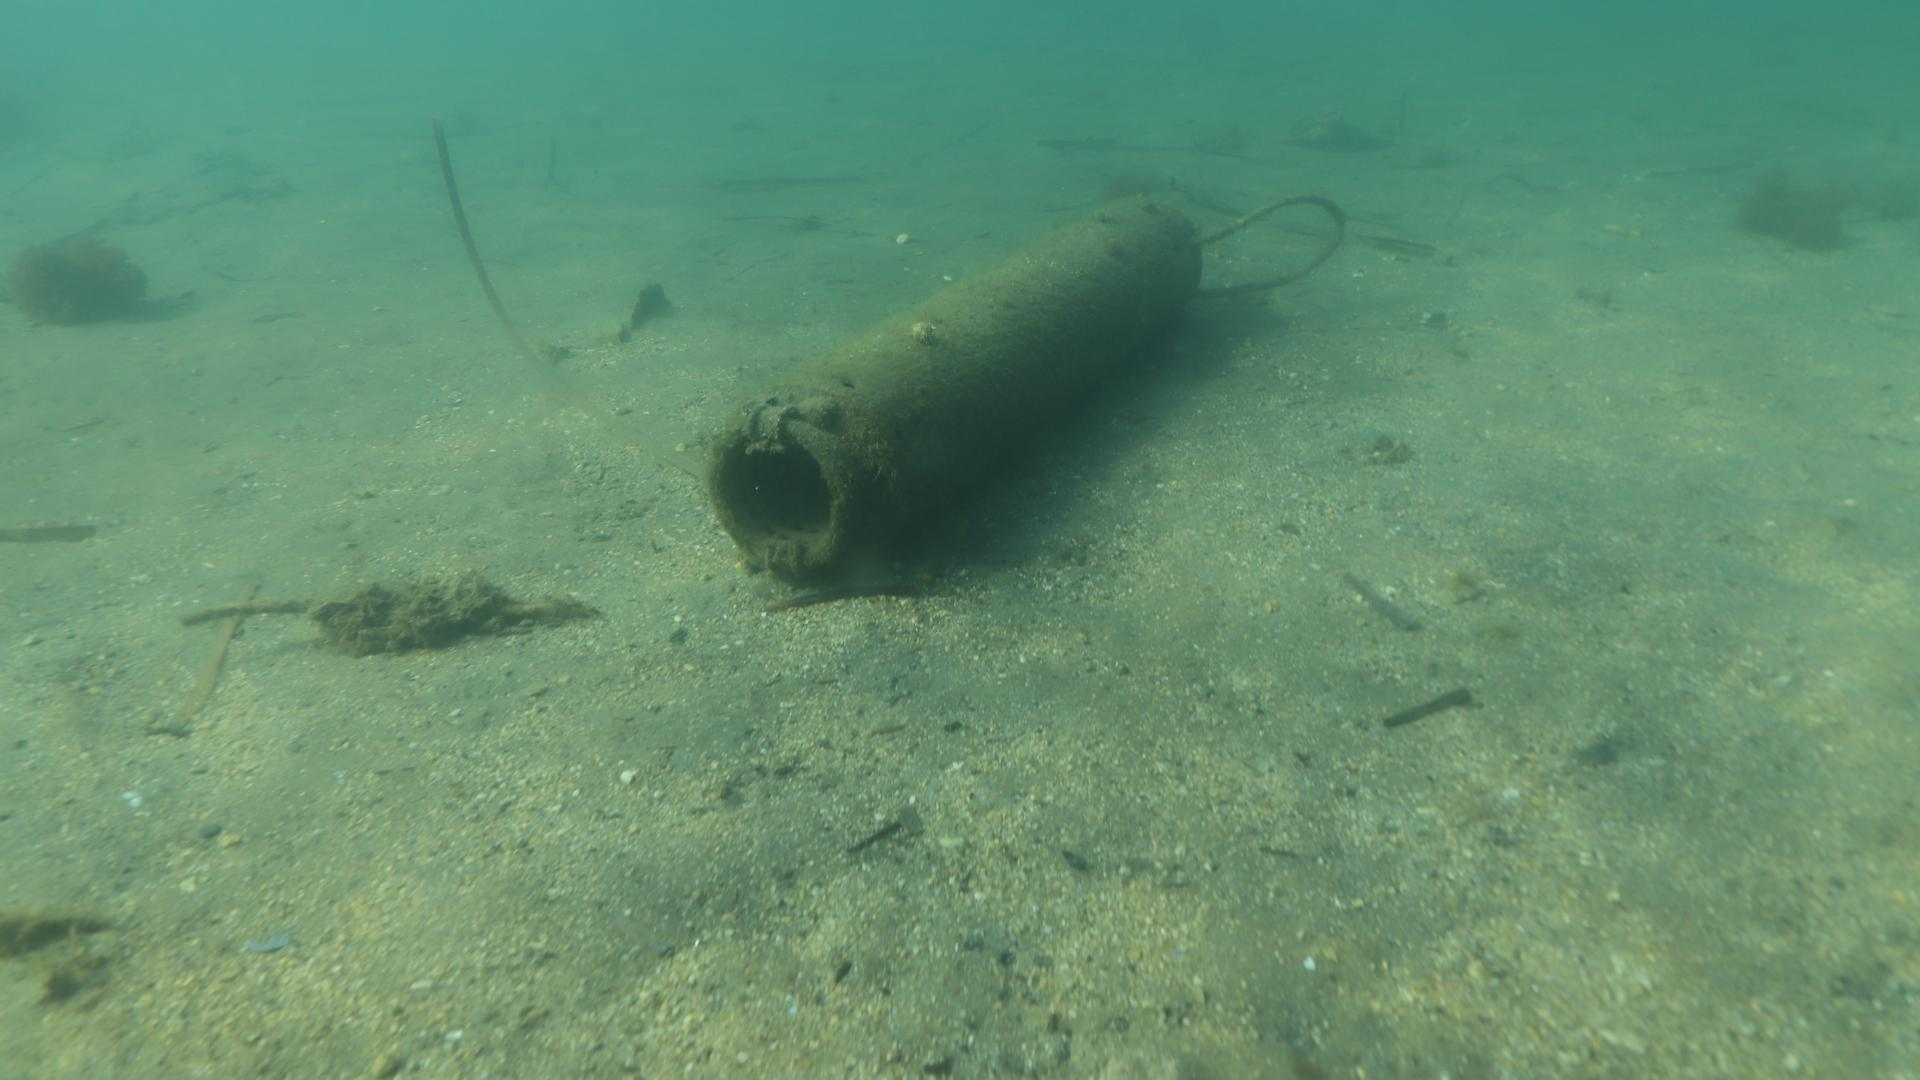eel fish trap: (705, 193, 1207, 582)
rope: (1188, 191, 1346, 297)
